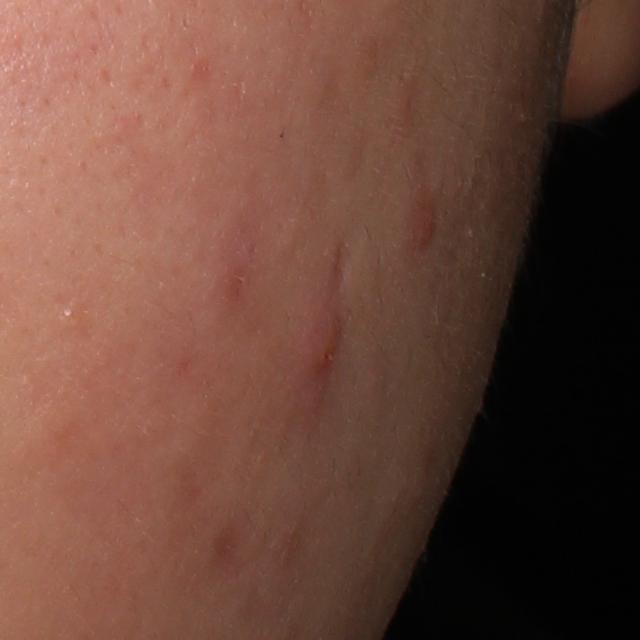atrophic_scar: (326, 236, 351, 289)
comedo: (53, 304, 83, 331)
papule: (290, 303, 352, 399), (404, 190, 443, 247)
